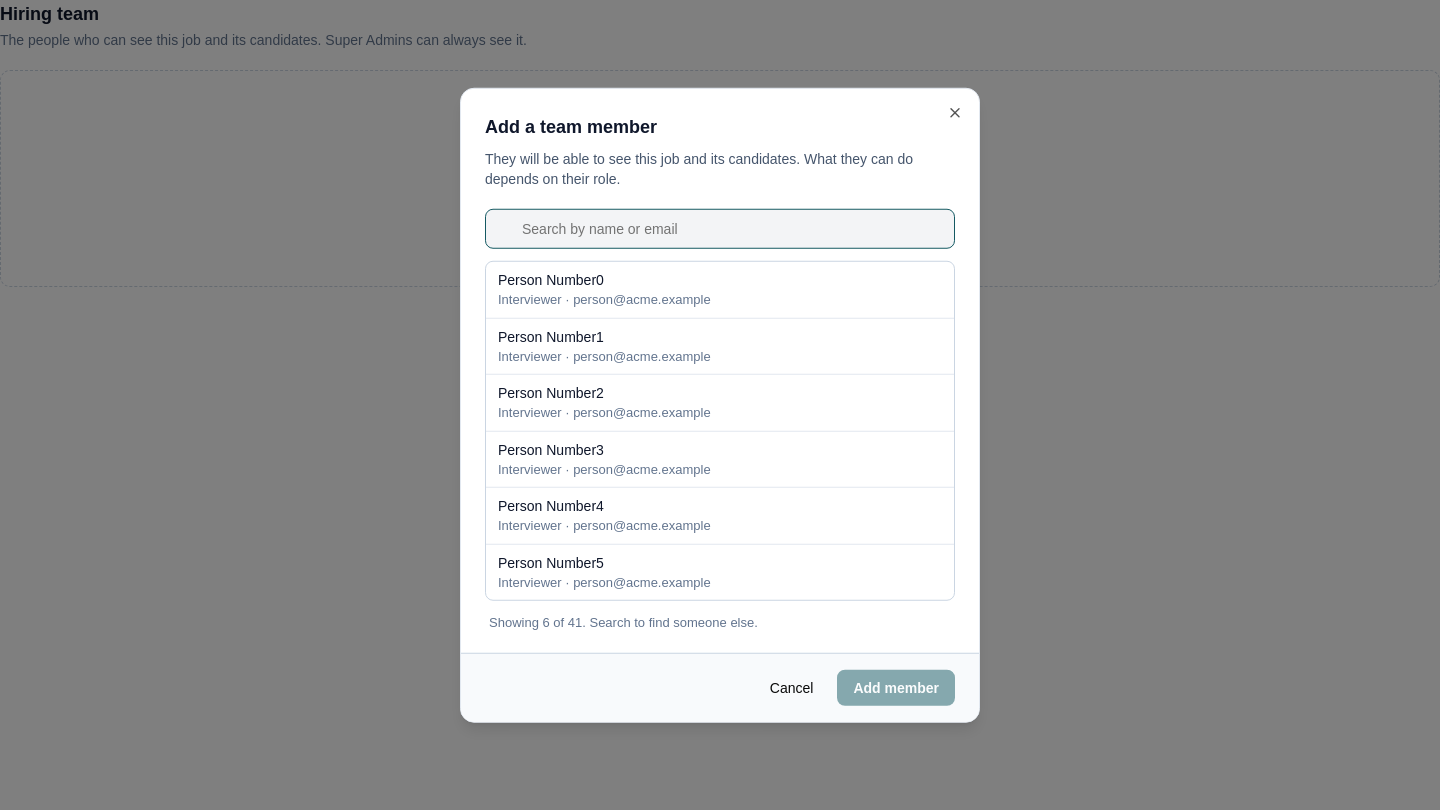
Test: HiringTeamTab › lists only a few people at a time and finds the rest by search
Expected: the number of options is 6, [486,262,954,318]; [486,318,954,375]; [486,375,954,431]; [486,431,954,488]; [486,488,954,544]; [486,544,954,600]
Expected: the text "Showing 6 of 41. Search to find someone else." is shown, [489,615,758,630]
Type "zed" into the search field at (720, 229), box [485,209,955,249]
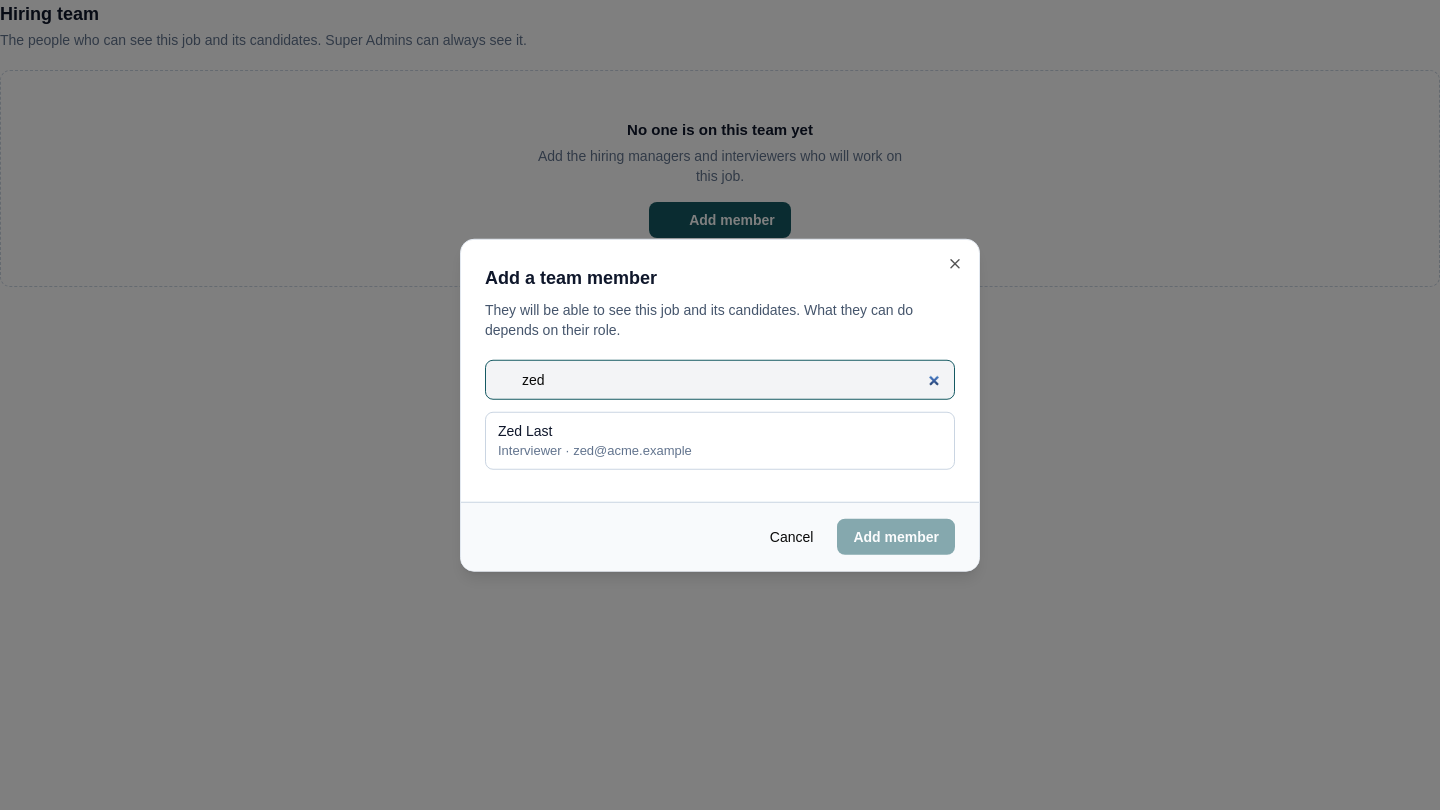
Expected: the number of options is 1, [486,413,954,468]
Expected: the text "Zed Last" is shown, [498,423,552,439]
